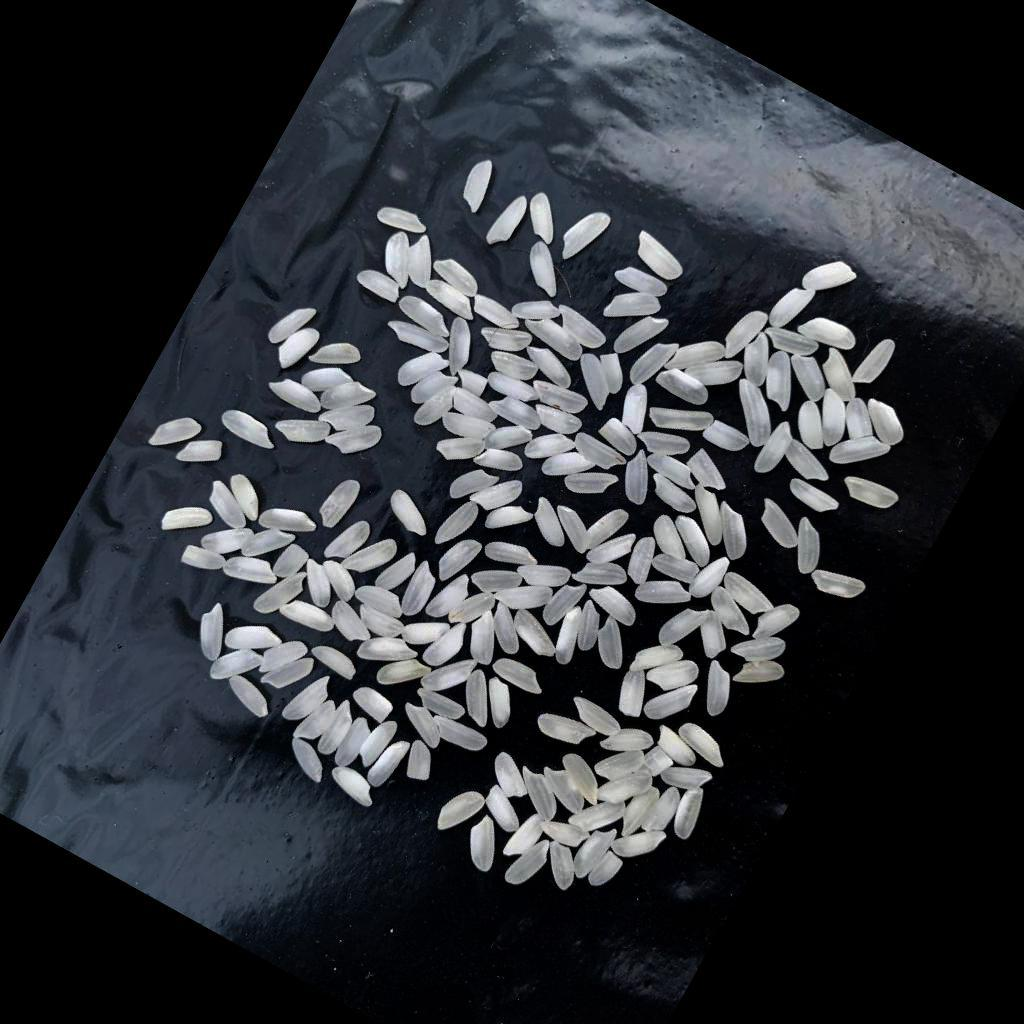rice: (718, 379, 790, 451), (645, 388, 716, 450), (665, 327, 731, 393), (677, 484, 742, 549), (593, 756, 657, 820), (253, 559, 313, 627), (702, 502, 764, 566), (828, 424, 893, 485), (568, 782, 630, 845), (556, 203, 613, 271), (564, 350, 626, 412), (342, 524, 403, 587), (420, 642, 480, 706), (613, 305, 672, 370), (602, 279, 665, 339), (324, 407, 387, 467), (752, 349, 811, 413), (642, 670, 701, 734), (358, 624, 423, 682), (507, 766, 571, 824), (494, 567, 558, 625), (283, 666, 339, 732), (317, 370, 379, 429), (684, 341, 747, 399), (452, 667, 510, 730), (701, 585, 765, 642), (635, 567, 699, 624), (187, 599, 244, 663), (779, 517, 836, 580), (457, 812, 514, 875), (223, 613, 286, 670), (719, 303, 773, 369), (812, 346, 872, 405), (384, 312, 452, 364), (373, 228, 430, 290), (258, 496, 322, 551), (629, 331, 683, 396), (517, 241, 576, 300), (663, 513, 724, 570), (318, 387, 379, 444), (433, 782, 489, 844), (505, 607, 568, 662), (801, 250, 860, 308), (208, 638, 266, 697), (778, 349, 838, 406), (750, 497, 812, 552), (690, 660, 745, 722), (553, 752, 615, 807), (572, 548, 634, 603), (459, 606, 514, 668), (273, 402, 335, 457), (432, 316, 486, 379), (629, 231, 693, 284), (549, 304, 614, 356), (469, 465, 527, 523), (395, 343, 452, 402), (805, 390, 860, 451), (200, 480, 261, 535), (839, 468, 903, 520), (568, 820, 619, 885), (219, 405, 284, 456), (630, 631, 687, 689), (613, 447, 667, 508), (657, 597, 711, 658), (718, 570, 781, 622), (505, 831, 557, 894), (611, 815, 668, 872), (241, 518, 298, 575), (261, 644, 317, 702), (150, 407, 206, 465), (515, 548, 576, 601), (426, 567, 479, 628), (223, 546, 285, 598), (535, 705, 598, 756), (647, 646, 705, 701), (731, 622, 790, 676), (258, 630, 312, 689), (733, 329, 786, 389), (323, 512, 376, 572), (267, 297, 320, 357), (635, 418, 696, 470), (422, 614, 474, 675), (674, 720, 736, 771), (520, 341, 582, 392), (528, 372, 591, 422), (615, 781, 665, 844), (547, 605, 597, 668), (397, 293, 461, 342), (428, 711, 492, 760), (786, 399, 841, 456), (518, 190, 573, 247), (484, 751, 541, 806), (524, 497, 581, 552), (376, 648, 433, 703), (160, 495, 217, 550), (588, 616, 642, 674), (540, 574, 591, 635), (485, 191, 534, 254), (586, 520, 640, 577), (857, 397, 915, 450), (563, 456, 621, 509), (752, 596, 805, 654), (599, 715, 657, 768), (544, 502, 602, 555), (309, 330, 367, 383), (779, 439, 839, 490), (767, 278, 818, 338), (434, 531, 485, 591), (733, 648, 789, 702), (594, 735, 648, 791), (477, 784, 533, 838), (472, 675, 526, 731), (201, 513, 257, 567), (609, 665, 661, 723), (535, 764, 594, 815), (478, 313, 537, 364), (581, 502, 632, 561), (433, 495, 483, 555), (666, 783, 715, 844), (317, 474, 366, 535), (365, 731, 414, 792), (524, 423, 580, 476), (481, 414, 537, 467), (541, 442, 598, 494), (301, 355, 358, 407), (394, 700, 452, 751), (809, 560, 868, 610), (585, 581, 645, 630), (656, 363, 717, 411), (397, 560, 445, 621), (448, 460, 502, 514), (644, 513, 700, 565), (448, 582, 500, 638), (469, 554, 526, 605), (383, 488, 440, 539), (324, 600, 381, 651), (274, 320, 324, 378), (482, 532, 541, 581), (566, 694, 627, 741), (423, 276, 484, 323), (267, 371, 328, 418), (409, 362, 461, 417), (435, 423, 490, 475), (682, 446, 738, 497), (399, 233, 449, 290), (413, 378, 462, 436), (852, 333, 900, 392), (762, 318, 821, 366), (455, 156, 503, 215), (280, 594, 340, 641), (293, 559, 346, 612), (220, 472, 274, 524), (570, 432, 631, 478), (439, 403, 497, 451), (326, 761, 384, 809), (294, 693, 342, 751), (355, 714, 402, 773), (754, 419, 800, 479), (613, 260, 673, 306), (492, 653, 552, 699), (536, 841, 588, 894), (614, 381, 663, 437), (659, 752, 715, 801), (688, 548, 735, 606), (503, 808, 550, 866), (689, 610, 739, 664), (566, 600, 614, 656), (376, 544, 424, 600), (222, 674, 278, 722), (318, 700, 362, 760), (649, 725, 705, 772), (646, 473, 703, 519), (177, 427, 228, 478), (836, 397, 886, 449), (511, 288, 565, 336), (621, 532, 668, 587), (530, 397, 586, 443), (430, 254, 486, 300), (642, 782, 687, 839), (333, 715, 378, 772), (484, 496, 535, 546), (401, 607, 452, 657), (486, 366, 543, 410), (283, 738, 336, 785), (474, 439, 528, 485), (313, 557, 364, 605), (447, 386, 502, 430), (354, 601, 408, 645), (355, 579, 410, 622), (785, 476, 841, 518), (413, 685, 469, 727), (377, 199, 431, 242), (470, 293, 525, 335), (309, 640, 364, 682), (589, 348, 636, 397), (540, 810, 593, 853), (399, 738, 445, 787), (349, 682, 400, 726), (702, 418, 753, 460), (652, 546, 703, 588), (181, 540, 230, 583), (354, 265, 405, 306), (597, 416, 645, 459), (586, 848, 628, 894), (273, 541, 314, 587), (640, 744, 678, 785), (454, 367, 492, 400)
